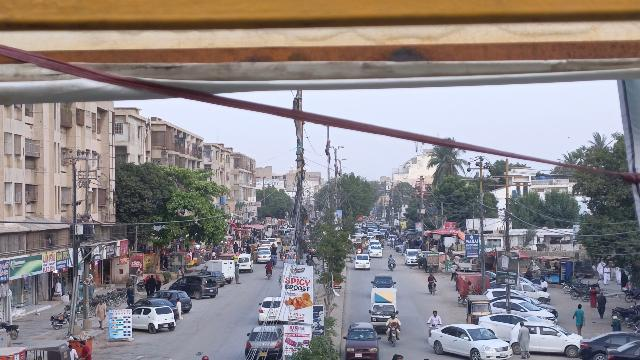Bike: (386, 324, 403, 347), (427, 281, 439, 297)
Car: (429, 322, 513, 359), (577, 331, 633, 360), (342, 321, 383, 360), (131, 304, 177, 335), (168, 274, 220, 301), (244, 325, 284, 359), (153, 289, 193, 314), (258, 297, 284, 324), (352, 253, 373, 272)
Person: (515, 321, 532, 360), (569, 301, 587, 336), (94, 298, 107, 330), (595, 289, 608, 320), (427, 308, 442, 325), (386, 311, 402, 326), (610, 314, 622, 333), (426, 272, 439, 283)
Rickshaw: (463, 294, 490, 325)
Truck: (368, 286, 399, 331), (202, 258, 236, 281)
